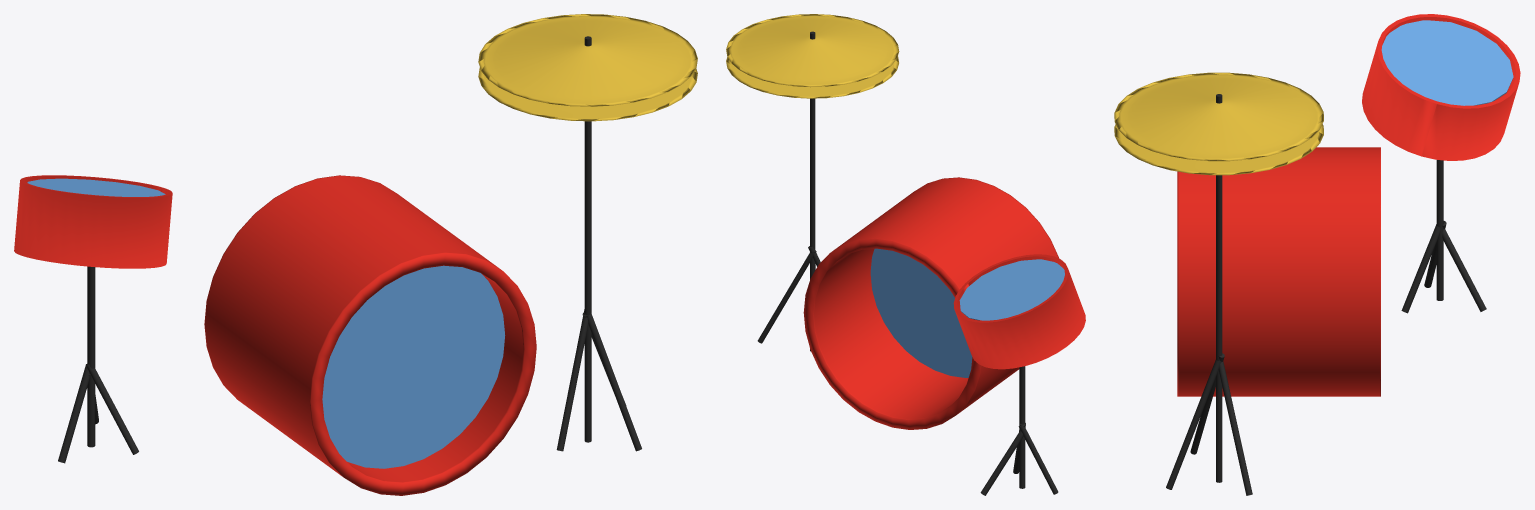
The model's file is DrumKit.glb.
3 renders of one model, left to right at view 1: azimuth 30°, elevation 25°; view 2: azimuth 150°, elevation 25°; view 3: azimuth 270°, elevation 25°, orthographic. The views are drawn at different scales.
Parts seen in each view (by area): view 1: Cylinder, DrumSkin, Cymbal, Snare, Stand, Cymbal 2, Standsnare, SnareSkin; view 2: Cylinder, Cymbal, DrumSkin, Snare, SnareSkin, Cymbal 2, Standsnare, Stand; view 3: Cylinder, Cymbal, Snare, SnareSkin, Stand, Cymbal 2, Standsnare.
Boxes of the visible parts, x1=… form: Cylinder: x1=204, y1=175, x2=536, y2=495; DrumSkin: x1=322, y1=265, x2=505, y2=468; Cymbal: x1=478, y1=14, x2=697, y2=106; Snare: x1=14, y1=175, x2=172, y2=268; Stand: x1=556, y1=36, x2=641, y2=451; Cymbal 2: x1=478, y1=67, x2=697, y2=121; Standsnare: x1=58, y1=266, x2=138, y2=463; SnareSkin: x1=27, y1=178, x2=165, y2=196; Cylinder: x1=803, y1=177, x2=1059, y2=429; Cymbal: x1=726, y1=14, x2=899, y2=87; DrumSkin: x1=870, y1=248, x2=972, y2=377; Snare: x1=953, y1=254, x2=1085, y2=369; SnareSkin: x1=959, y1=259, x2=1064, y2=320; Cymbal 2: x1=726, y1=56, x2=898, y2=98; Standsnare: x1=980, y1=366, x2=1058, y2=495; Stand: x1=757, y1=31, x2=820, y2=351; Cylinder: x1=1177, y1=147, x2=1380, y2=396; Cymbal: x1=1114, y1=72, x2=1323, y2=161; Snare: x1=1362, y1=14, x2=1520, y2=160; SnareSkin: x1=1381, y1=20, x2=1513, y2=105; Stand: x1=1166, y1=94, x2=1252, y2=495; Cymbal 2: x1=1114, y1=124, x2=1323, y2=175; Standsnare: x1=1401, y1=160, x2=1486, y2=313.
Bounding box in the file's own units: 4.08 × 2.89 × 2.75.
